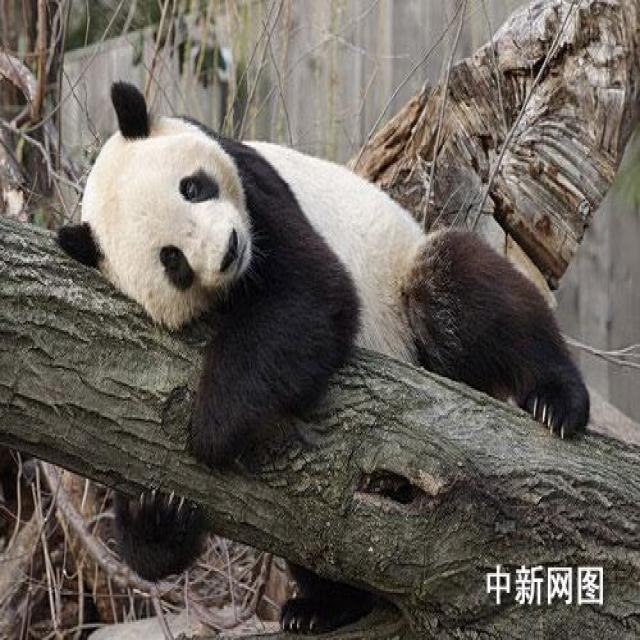panda: (55, 80, 592, 640)
